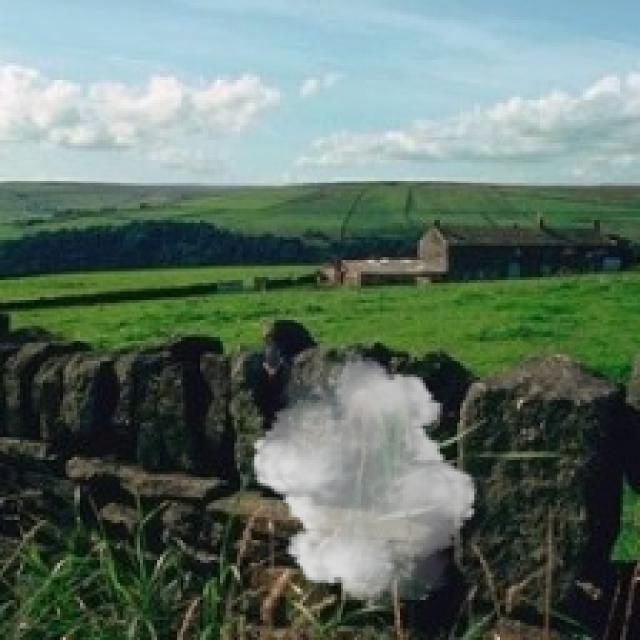Smoke: (243, 351, 486, 606)
